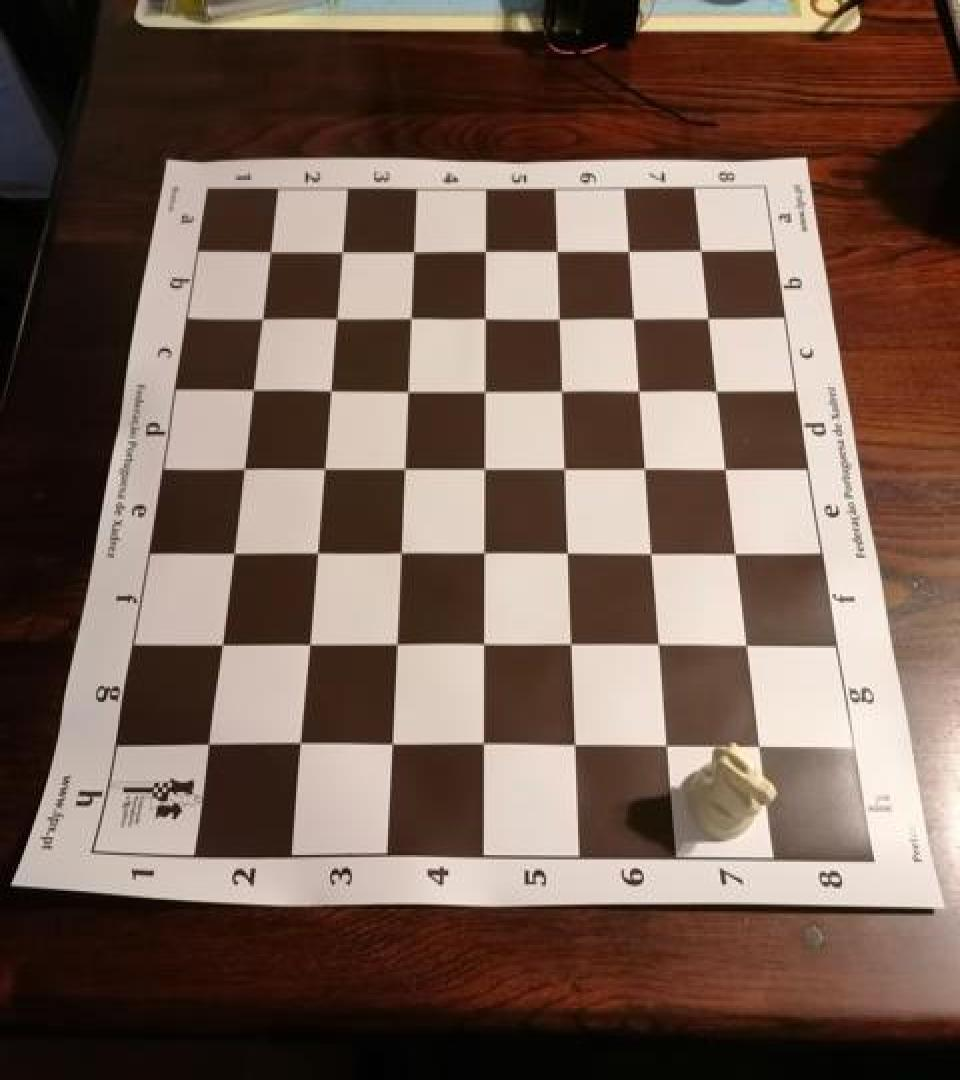xcorner: (637, 536, 669, 573), (552, 536, 584, 573), (202, 625, 234, 662), (188, 725, 220, 762), (690, 234, 722, 270), (617, 234, 649, 270), (545, 234, 577, 270), (472, 234, 504, 270), (400, 234, 432, 270), (327, 234, 359, 270), (256, 234, 288, 270), (698, 302, 730, 338), (622, 302, 654, 338), (546, 302, 578, 338), (471, 302, 503, 338), (396, 300, 428, 336), (321, 300, 353, 336), (246, 300, 278, 336), (705, 374, 737, 410), (627, 374, 659, 410), (548, 374, 580, 410), (470, 374, 502, 410), (392, 372, 424, 408), (314, 372, 346, 408), (237, 372, 269, 408), (714, 452, 746, 488), (632, 452, 664, 488), (550, 451, 582, 487), (469, 451, 501, 487), (388, 451, 420, 487), (307, 450, 339, 486), (226, 450, 258, 486), (723, 538, 755, 574), (467, 536, 499, 572), (383, 536, 415, 572), (299, 534, 331, 570), (215, 534, 247, 570), (733, 630, 765, 666), (644, 630, 676, 666), (555, 629, 587, 665), (466, 628, 498, 664), (378, 626, 410, 662), (290, 626, 322, 662), (744, 731, 776, 767), (650, 730, 682, 766), (557, 730, 589, 766), (464, 729, 496, 765), (372, 728, 404, 764), (280, 727, 312, 763)
